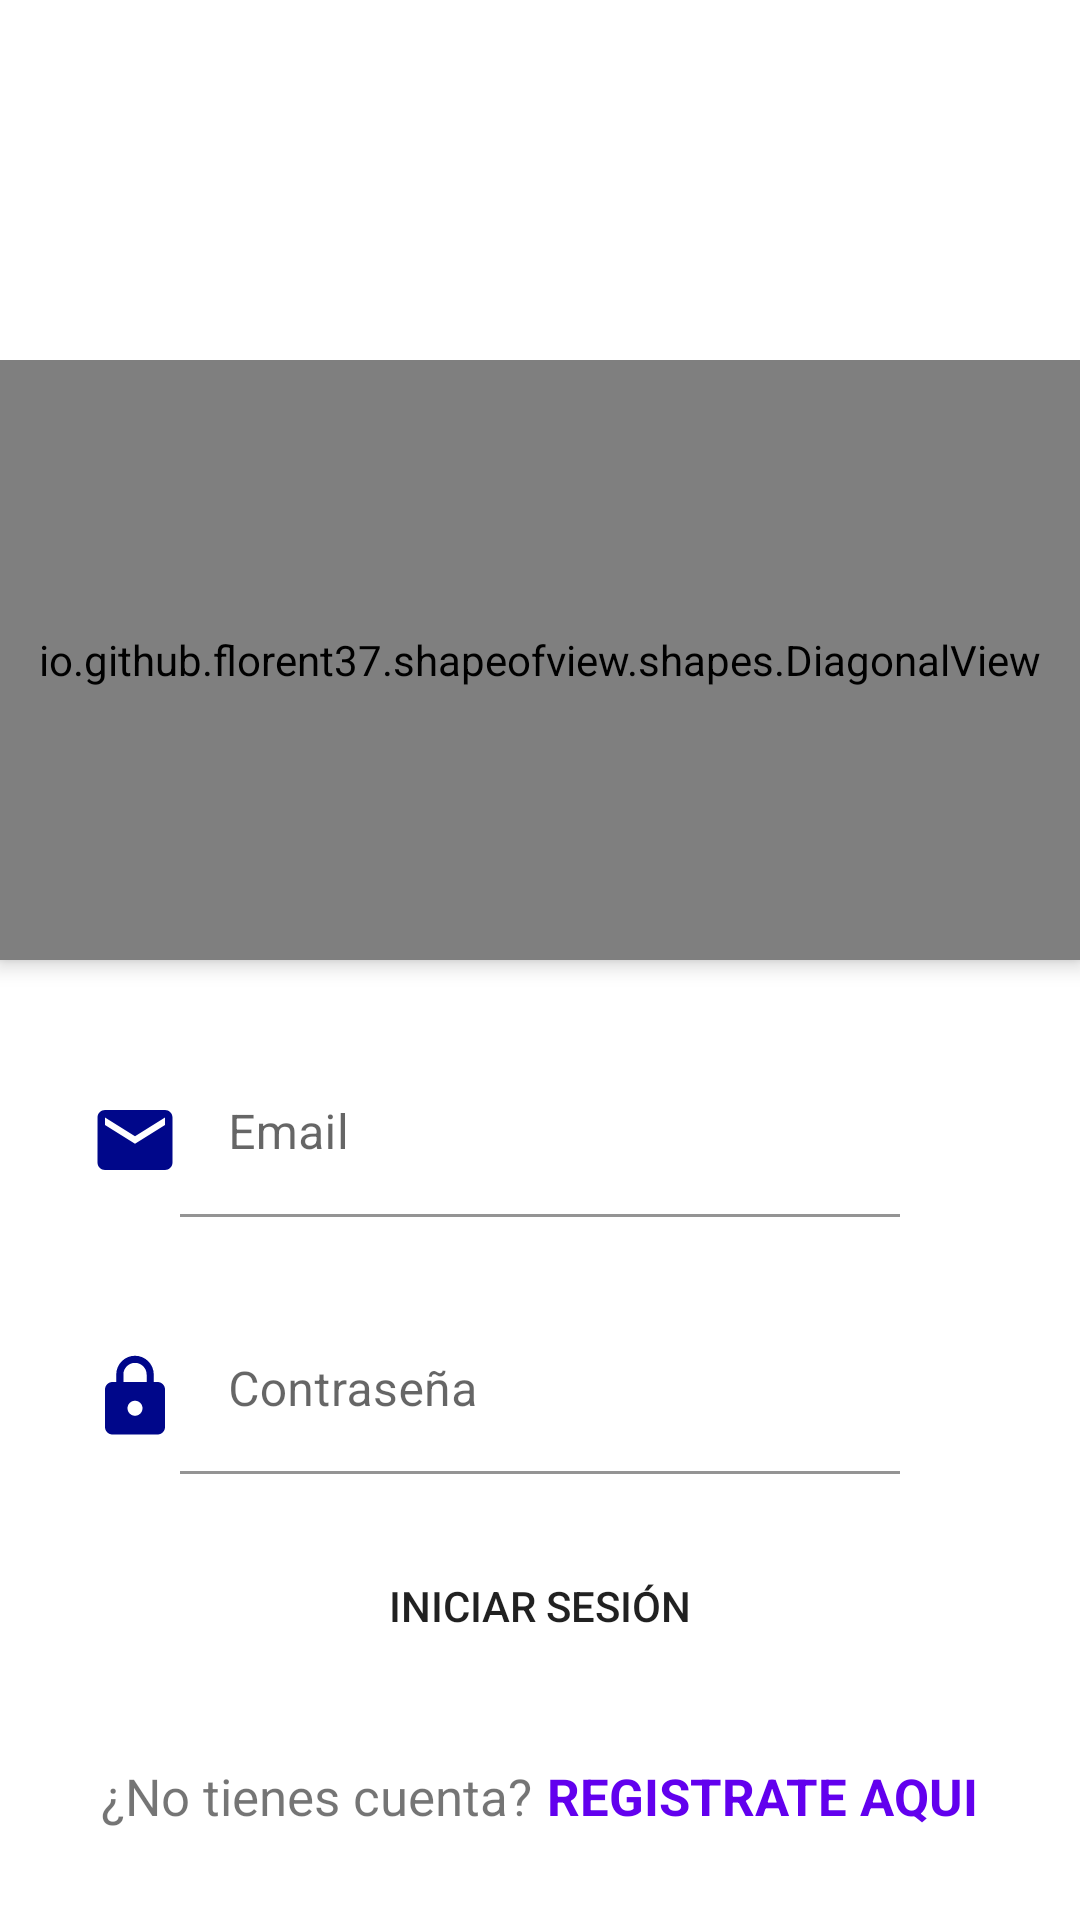

Named icons in this screenshot (1080*1920) and their bounding boxes, bbox=(x1, y1, x2, y2):
password: bbox=(105, 1355, 165, 1435)
